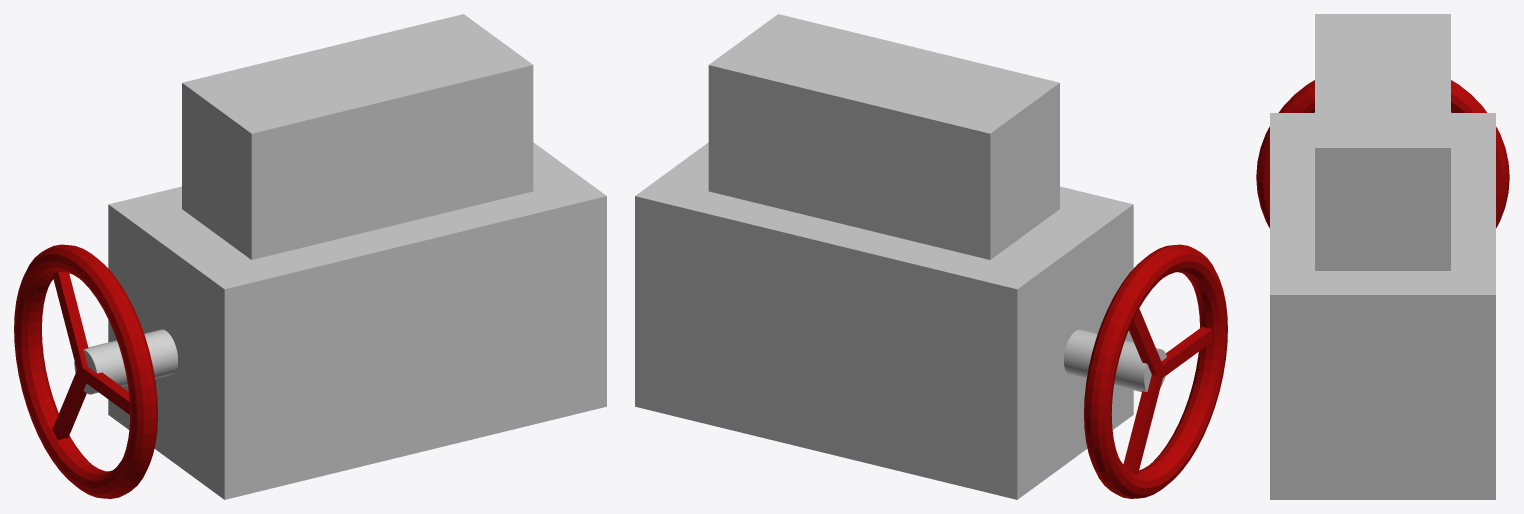
Rendered from rotor_lock.obj.
The picture shows the model from 3 angles, left to right: view 1: azimuth 30°, elevation 25°; view 2: azimuth 150°, elevation 25°; view 3: azimuth 270°, elevation 25°; orthographic projection. The views are drawn at different scales.
Visible parts, largest first — view 1: rotor_lock; view 2: rotor_lock; view 3: rotor_lock.
Part boxes in pixels (<box>): rotor_lock: <box>14,14,606,499</box>; rotor_lock: <box>635,14,1227,499</box>; rotor_lock: <box>1256,14,1509,499</box>.
Bounding box in the file's own units: 0.472 × 0.332 × 0.224.
